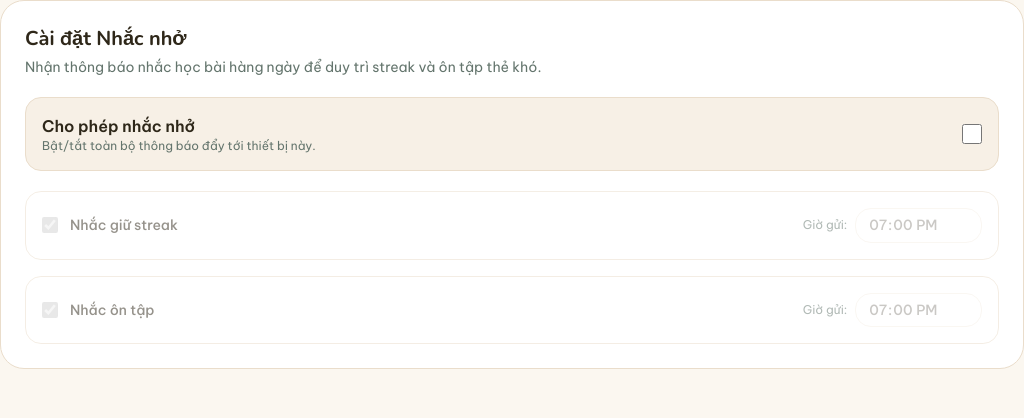
Test: NotificationSettings Component › shows error message when notification permission is denied
Click the switch at (972,134), box x1=962 y1=124 x2=982 y2=144
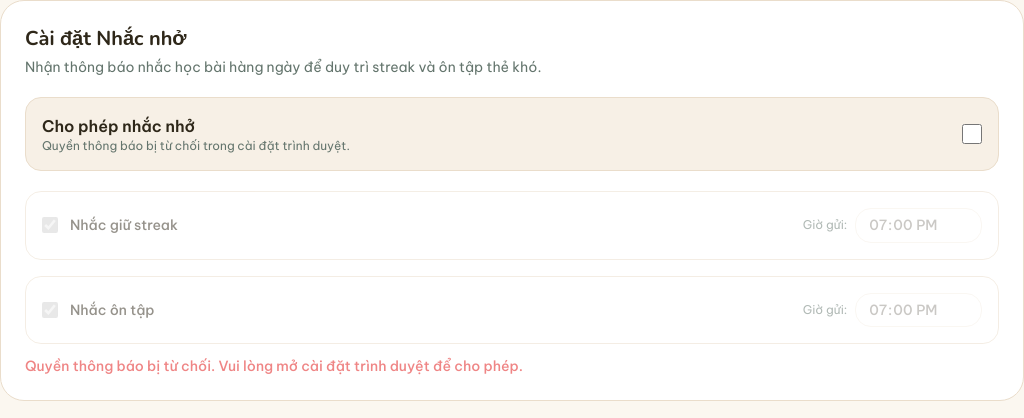
Now the message shows "Quyền thông báo bị từ chối", box x1=25 y1=357 x2=523 y2=375
